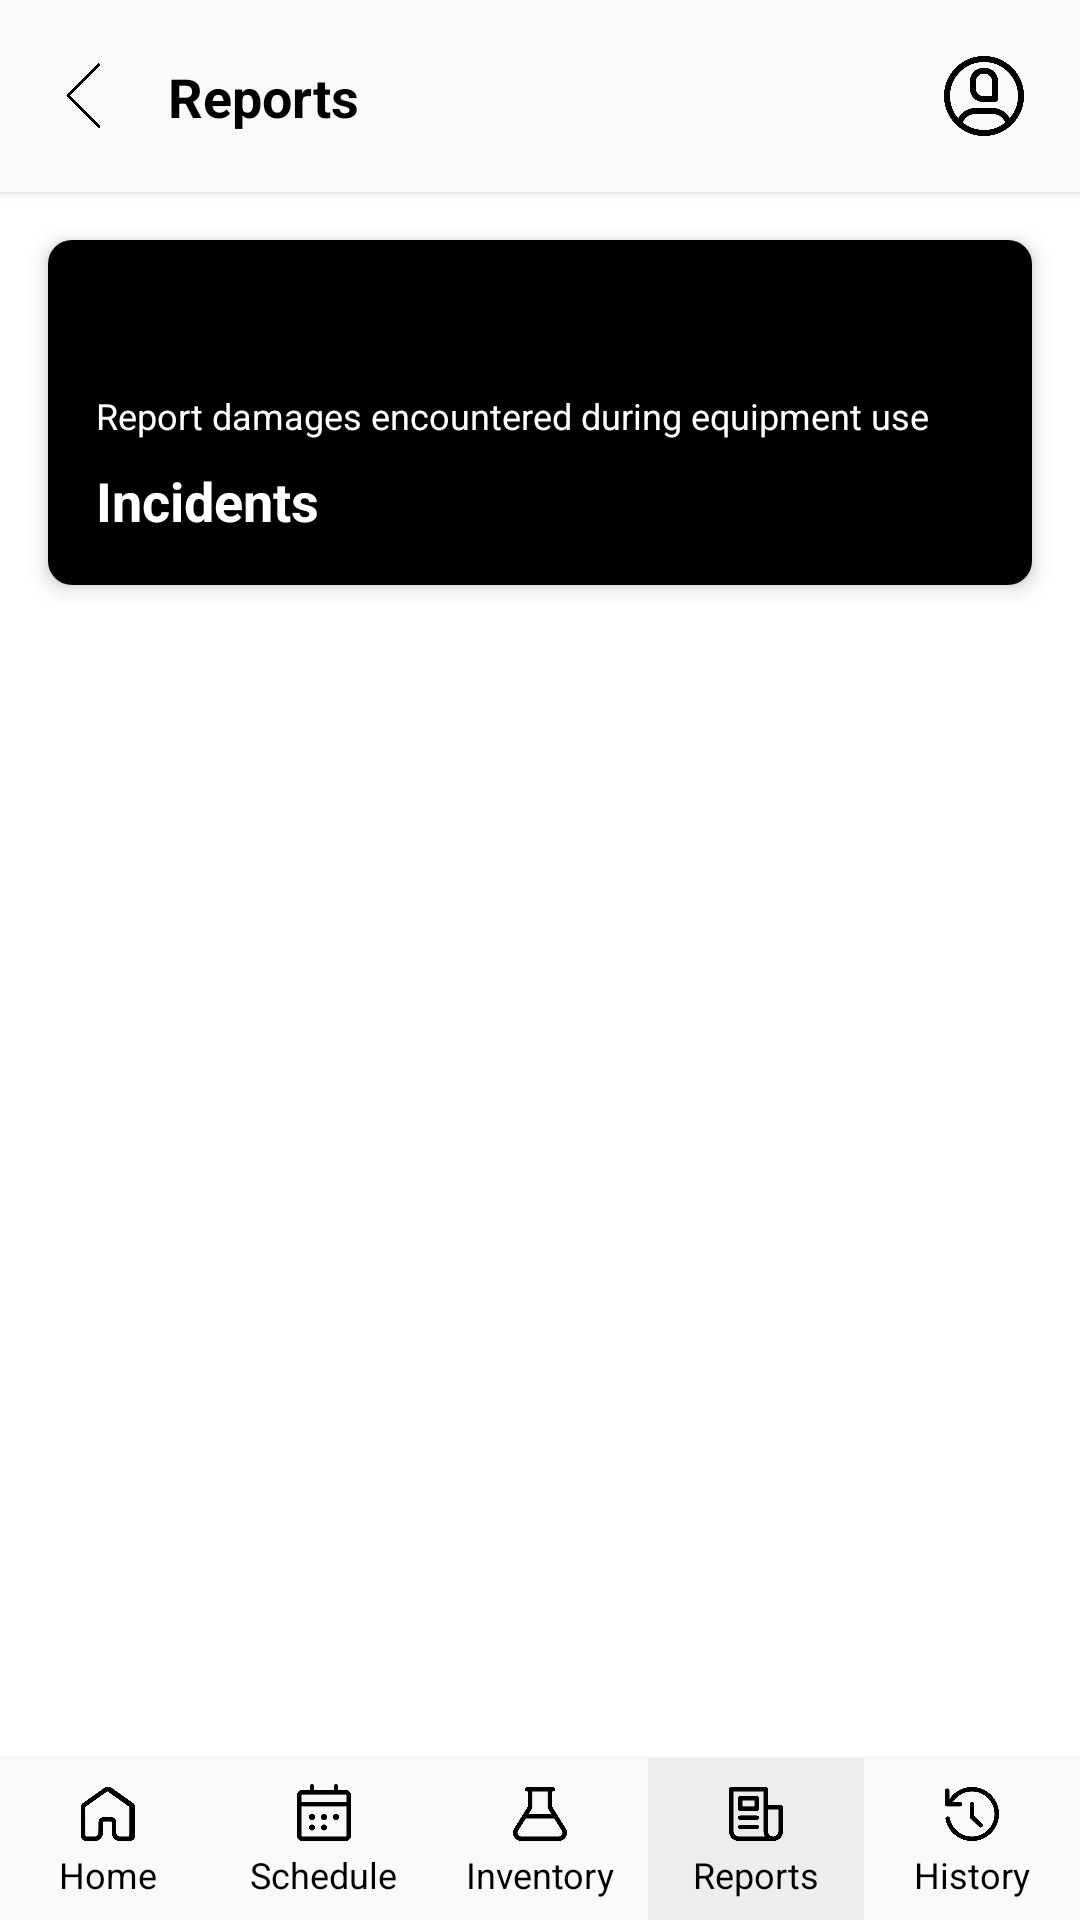

Locate icon controls on the screen. Image size 1080×1920, boxes as (x1, y1, x2, y2).
Back: (66, 63, 100, 128)
User Icon: (944, 56, 1024, 136)
